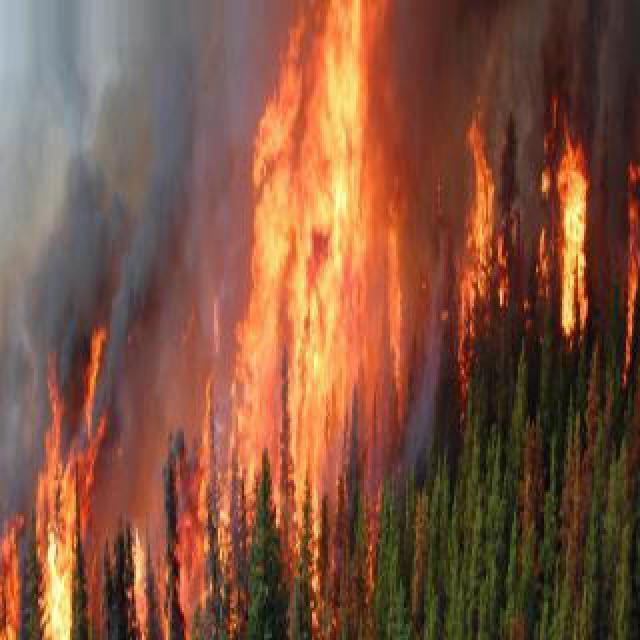Fire: (202, 2, 404, 576), (36, 340, 100, 638), (458, 116, 502, 352), (556, 100, 594, 336), (534, 148, 550, 318), (2, 516, 24, 638), (128, 498, 150, 610)
Smoke: (406, 224, 450, 498), (162, 412, 200, 550)
